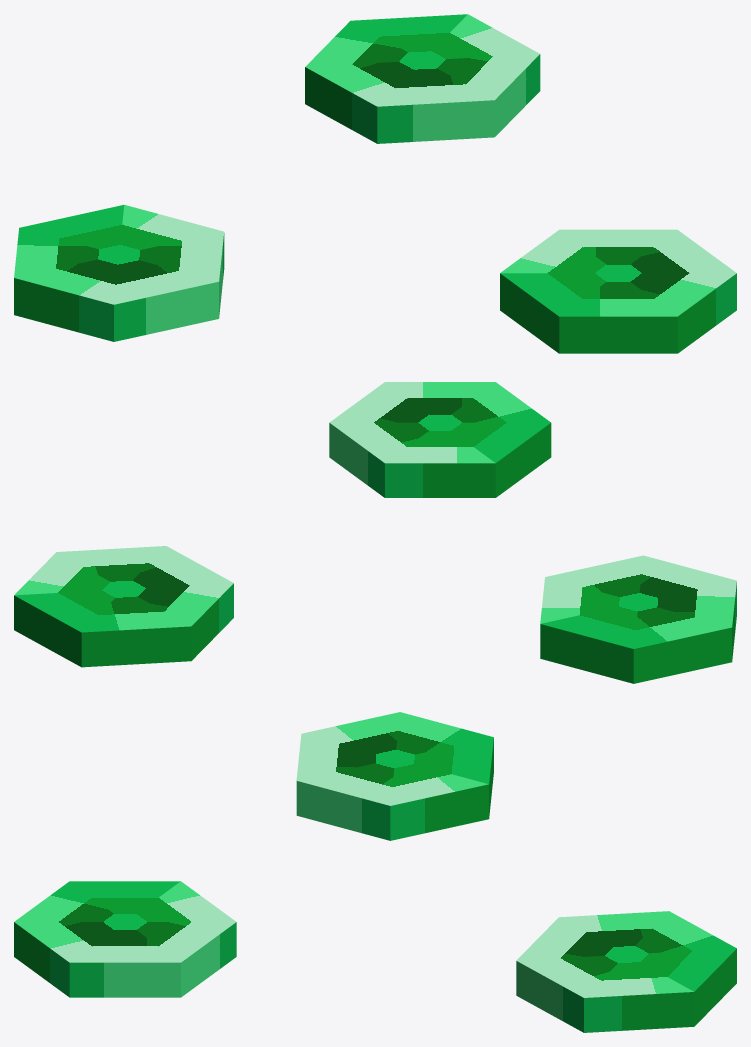
The model's file is emerald_coins_on_0.obj.
3 views of the same model, one above another, from view 1: azimuth 30°, elevation 25°; view 2: azimuth 150°, elevation 25°; view 3: azimuth 270°, elevation 25° (orthographic). The views are drawn at different scales.
Visible parts, largest first — view 1: cylinder; view 2: cylinder; view 3: cylinder.
Part boxes in pixels (left/top/right/bottom): cylinder: left=14, top=14, right=736, bottom=353; cylinder: left=14, top=382, right=736, bottom=683; cylinder: left=14, top=712, right=736, bottom=1032.
Bounding box in the file's own units: 1.1 × 0.0625 × 1.17.
